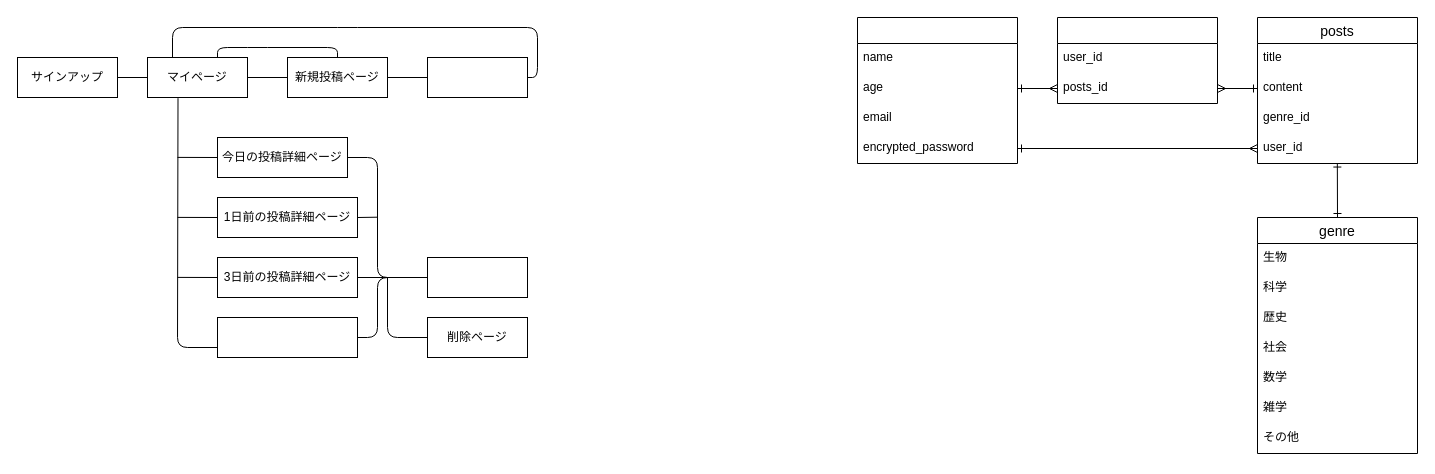
This 1435x474 diagram has some shape labels left out. The shapes that lost their labels are listed below. From the top down, each one's box as (x1, y1, x2, y2) in pixels, then its label:
(426, 56, 528, 98): 他者の投稿ページ
(1056, 16, 1218, 104): like
(856, 16, 1018, 164): user
(426, 256, 528, 298): 編集ページ
(216, 316, 358, 358): 7日前の投稿詳細ページ
